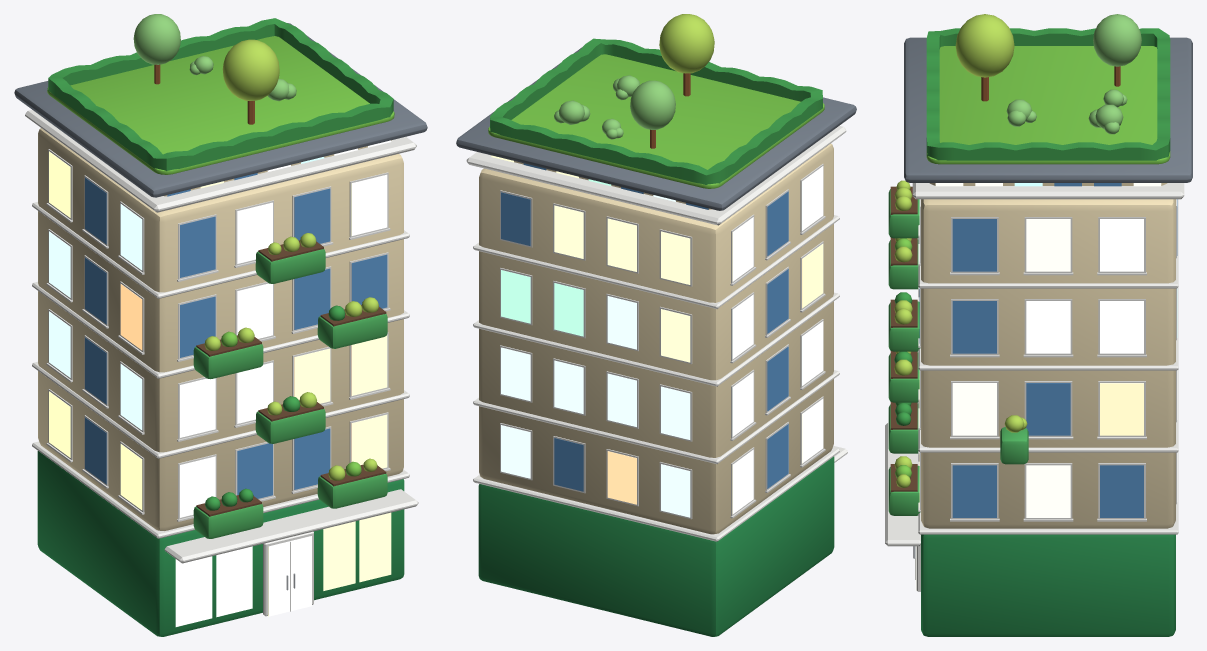
Rendered from predio_creme_varandas_verdes.glb.
3 renders of one model, left to right at view 1: azimuth 30°, elevation 25°; view 2: azimuth 150°, elevation 25°; view 3: azimuth 270°, elevation 25°, orthographic. The views are drawn at different scales.
Parts seen in each view (by area): view 1: predio_creme_varandas_verdes; view 2: predio_creme_varandas_verdes; view 3: predio_creme_varandas_verdes.
Part boxes in pixels (bbox=[...]): predio_creme_varandas_verdes: bbox=[14, 14, 427, 636]; predio_creme_varandas_verdes: bbox=[456, 14, 856, 636]; predio_creme_varandas_verdes: bbox=[885, 14, 1192, 636].
Bounding box in the file's own units: 12.15 × 21.86 × 10.87.
Materials: 6 (1 with a texture image).
